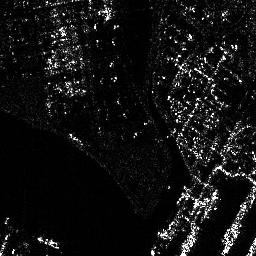ship: (180, 226, 201, 256), (202, 188, 219, 221), (222, 225, 239, 256), (35, 235, 60, 249)
